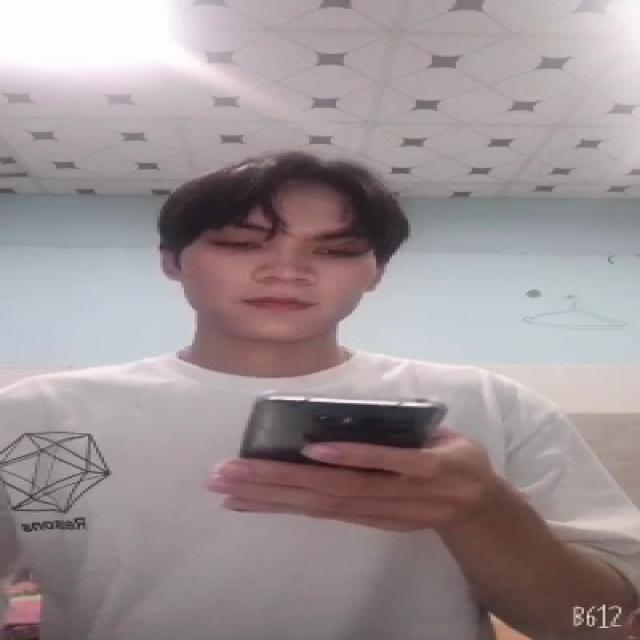Phone: (235, 388, 451, 466)
